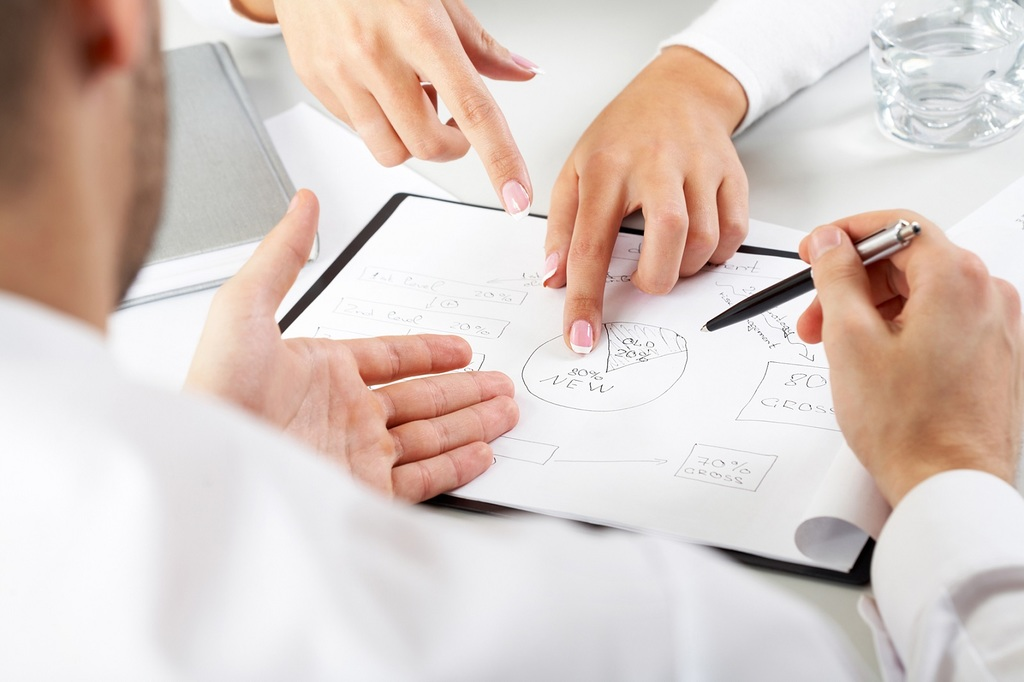Pen: (703, 228, 925, 330)
